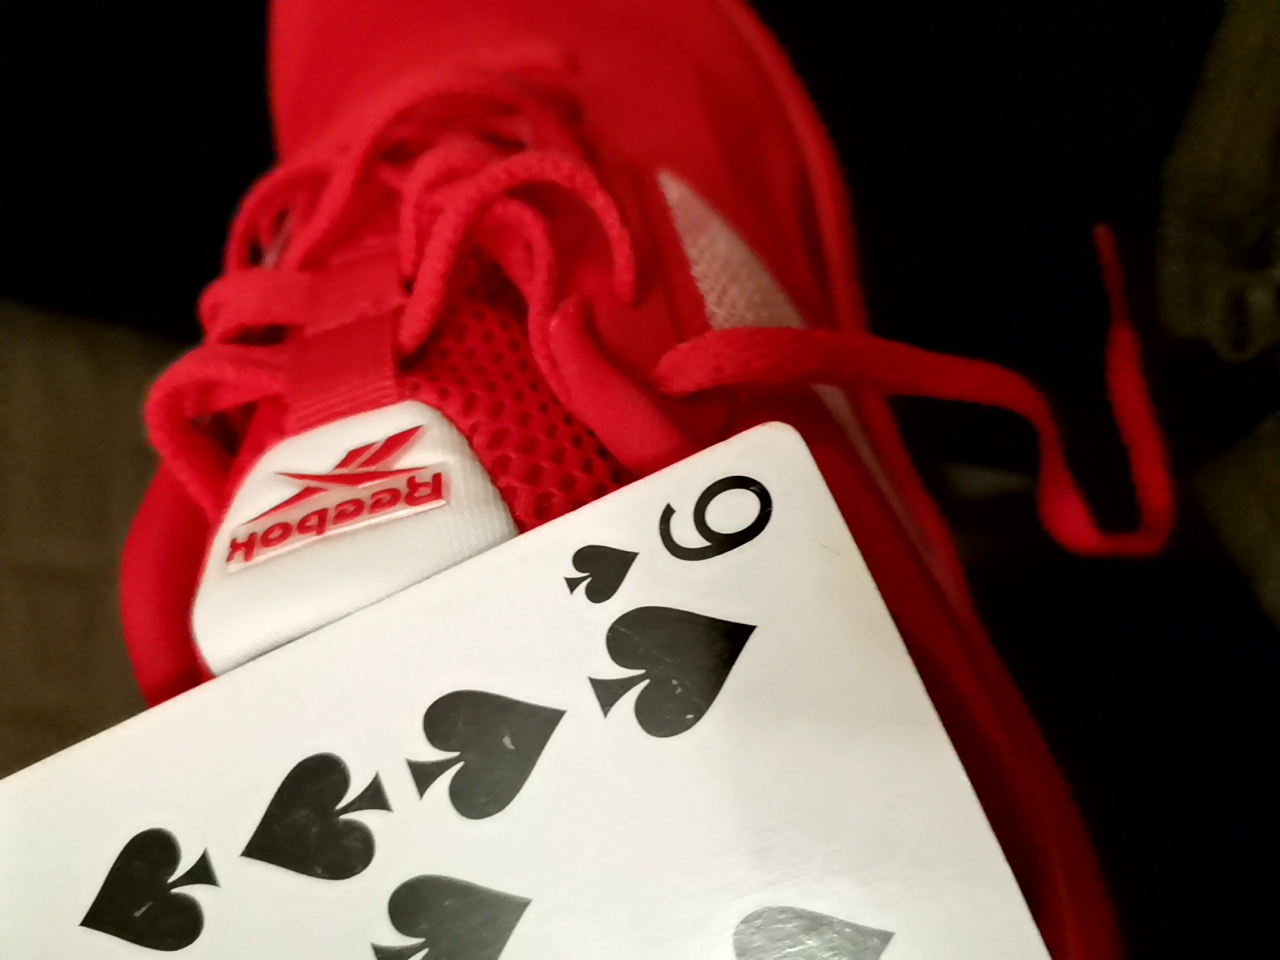ht 9: (9, 392, 1039, 955)
